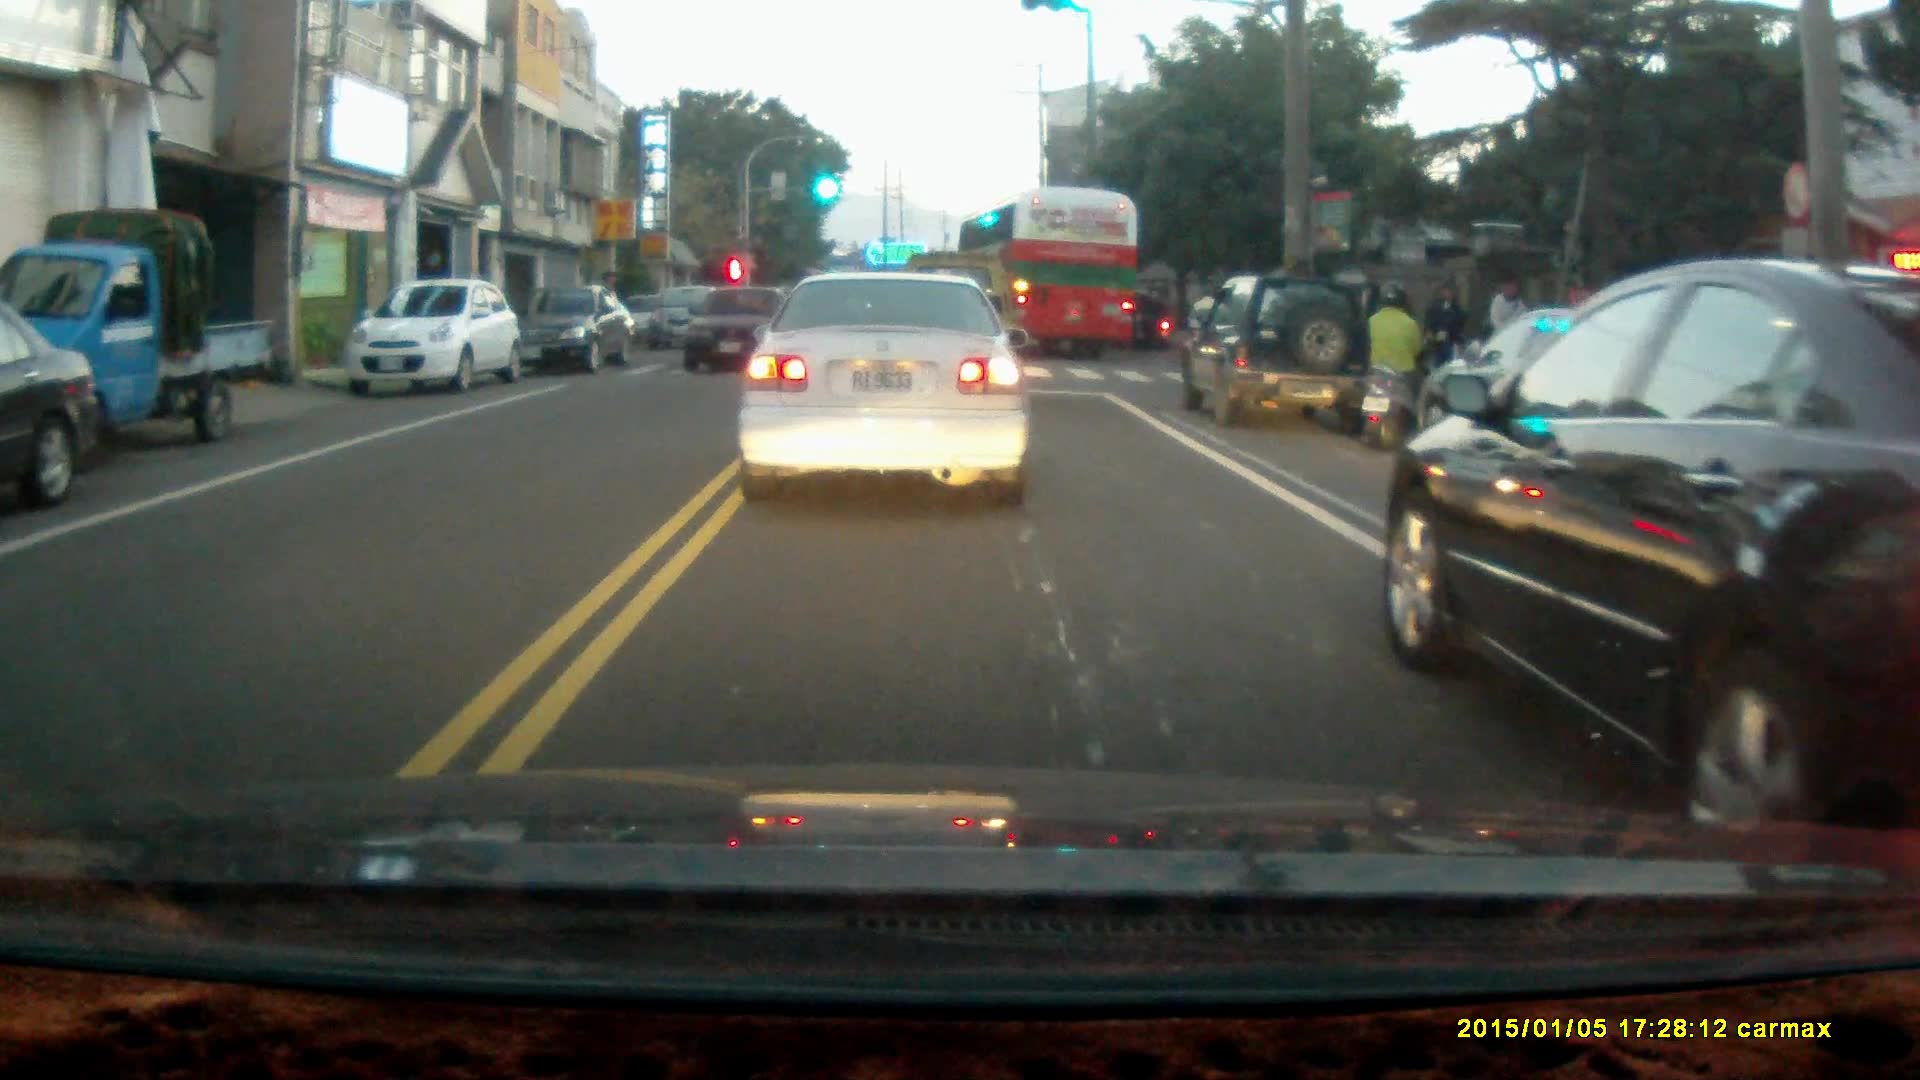pedestrian: (1485, 272, 1534, 384), (1421, 276, 1466, 396)
rider: (1357, 282, 1430, 451), (1115, 293, 1176, 350)
vehicle: (1388, 257, 1920, 834), (731, 268, 1033, 506), (1, 209, 277, 450), (1410, 303, 1734, 466), (1182, 275, 1383, 434), (962, 188, 1139, 359), (1, 302, 107, 515), (348, 282, 516, 398), (523, 284, 641, 375), (686, 283, 786, 381), (645, 286, 733, 358)
